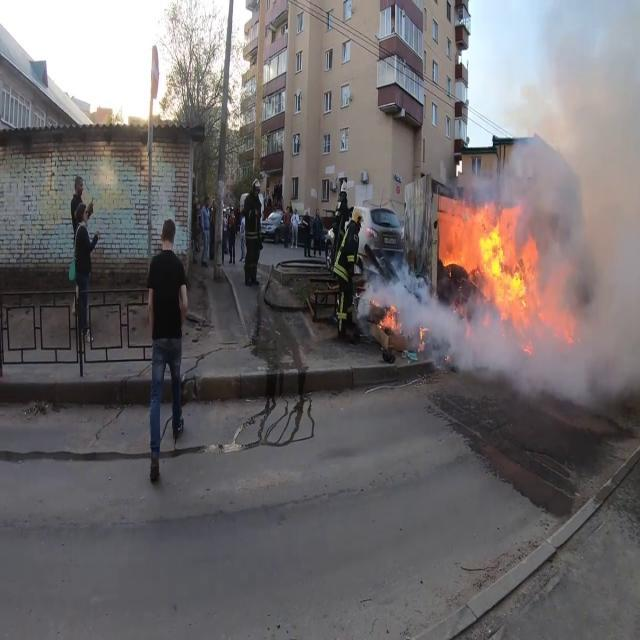Fire: (436, 196, 542, 318), (376, 302, 402, 339)
Smoke: (509, 1, 640, 418)
